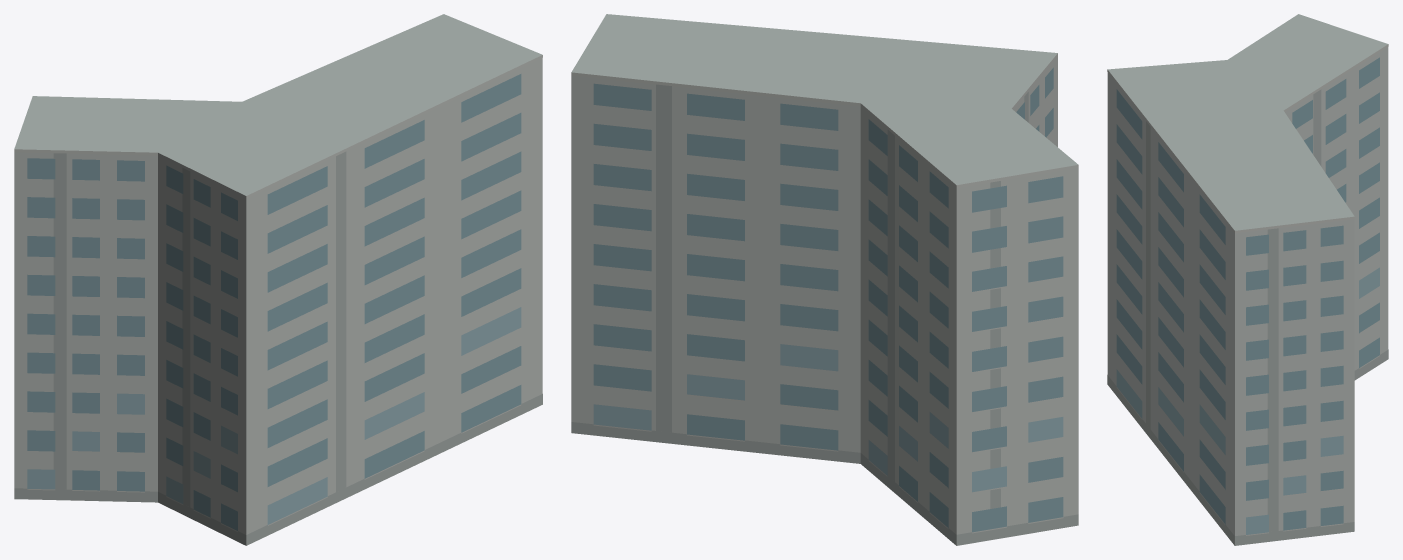
The model's file is residential-0fe6f0af-c7bf-4498-8b00-6f6d206b8ae9.glb.
The picture shows the model from 3 angles, left to right: view 1: azimuth 30°, elevation 25°; view 2: azimuth 150°, elevation 25°; view 3: azimuth 270°, elevation 25°; orthographic projection. The views are drawn at different scales.
Parts seen in each view (by area): view 1: residential-0fe6f0af-c7bf-4498-8b00-6f6d206b8ae9.tmp; view 2: residential-0fe6f0af-c7bf-4498-8b00-6f6d206b8ae9.tmp; view 3: residential-0fe6f0af-c7bf-4498-8b00-6f6d206b8ae9.tmp.
Part boxes in pixels (x1,y1,x2,y2): residential-0fe6f0af-c7bf-4498-8b00-6f6d206b8ae9.tmp: [14, 14, 542, 545]; residential-0fe6f0af-c7bf-4498-8b00-6f6d206b8ae9.tmp: [571, 14, 1078, 545]; residential-0fe6f0af-c7bf-4498-8b00-6f6d206b8ae9.tmp: [1107, 14, 1388, 545].
Size of the model in its own units: 42.81 by 29 by 23.44.
